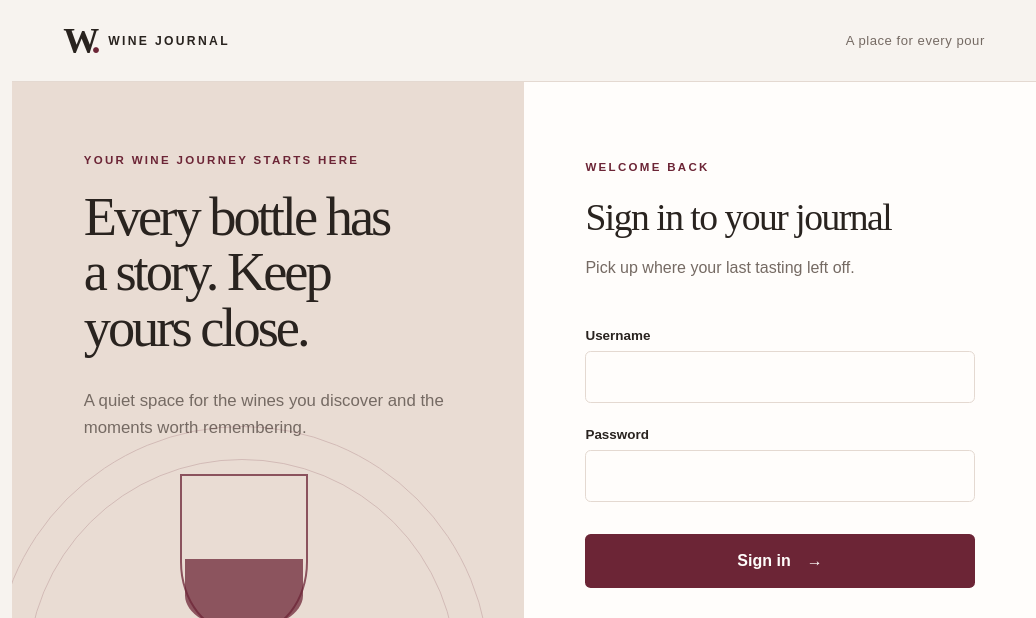
Test: Wine Journal entry › shows a useful error for rejected credentials
Type "demo" into the field with id "username" at point(780, 378), box [585,352,974,404]
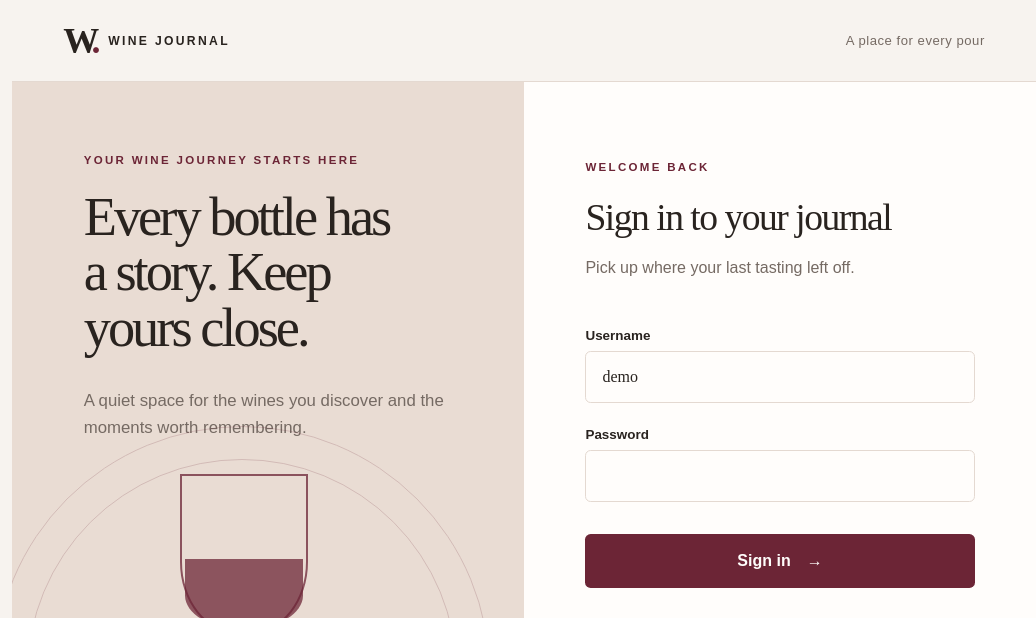
Type "wrong-password" into the password field labelled "Password" at point(780, 476), box [585,450,974,502]
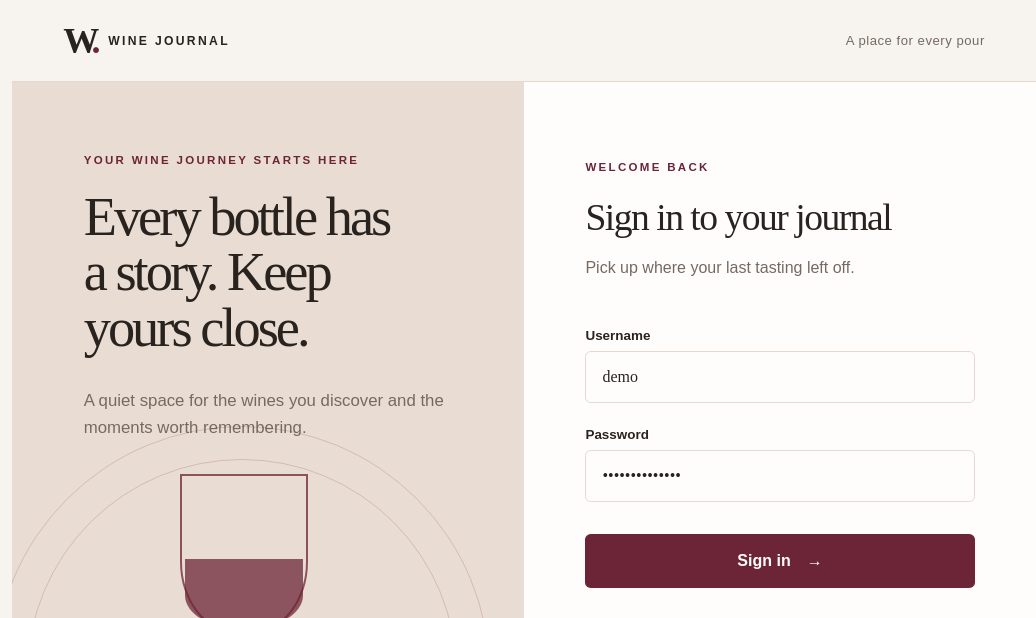
Submit the form, box [585,328,974,588]
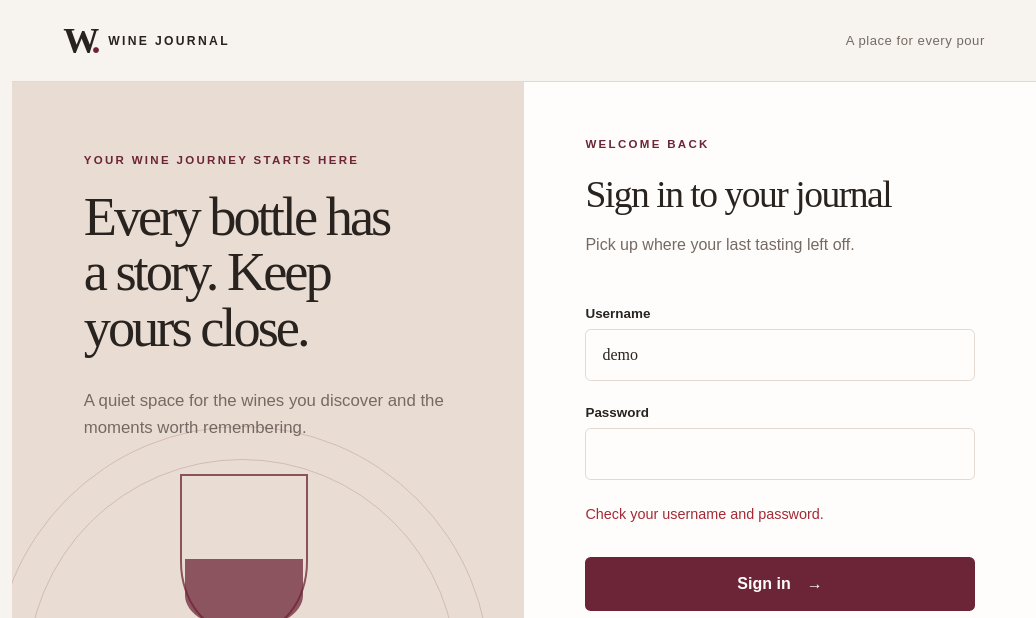
Result: the message "Check your username and password." is shown at [585,506,824,522]
Result: the password field labelled "Password" is empty at [585,428,974,480]
